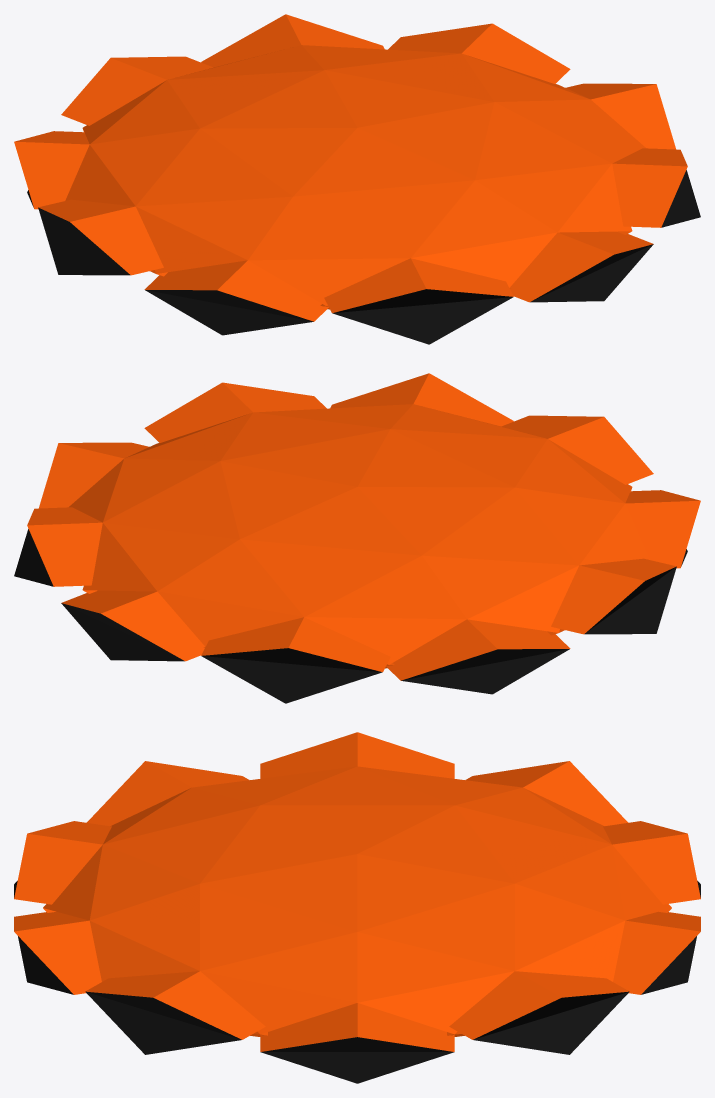
File: projectile.FBX
The picture shows the model from 3 angles, top to bottom: view 1: azimuth 30°, elevation 25°; view 2: azimuth 150°, elevation 25°; view 3: azimuth 270°, elevation 25°; orthographic projection. The views are drawn at different scales.
Parts seen in each view (by area): view 1: projectile001; view 2: projectile001; view 3: projectile001.
Part boxes in pixels (<box>): projectile001: <box>14,14,700,344</box>; projectile001: <box>14,373,700,703</box>; projectile001: <box>14,732,700,1083</box>.
Size of the model in its own units: 0.2754 by 0.0454 by 0.2619.
